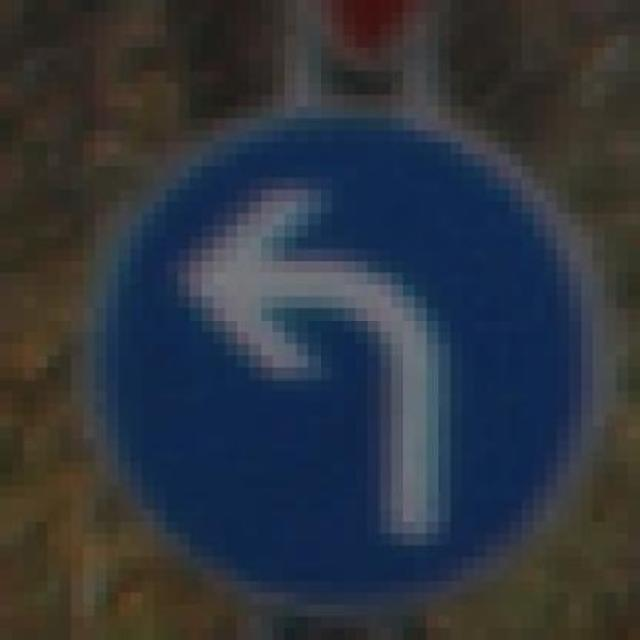Turn left ahead: (94, 95, 606, 593)
